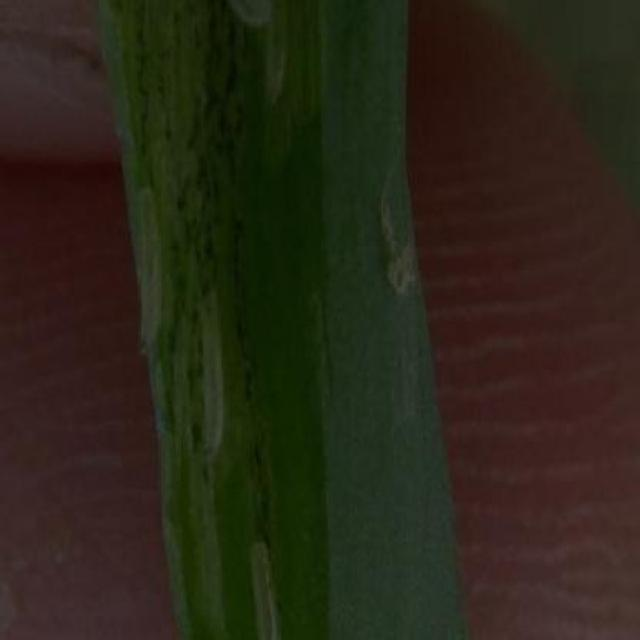whorl-maggot: (132, 172, 160, 360), (198, 283, 225, 471), (259, 1, 293, 117), (246, 535, 282, 640)
